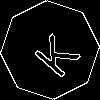K: (25, 25, 82, 80)
